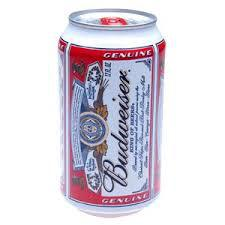beer: (56, 8, 163, 216)
